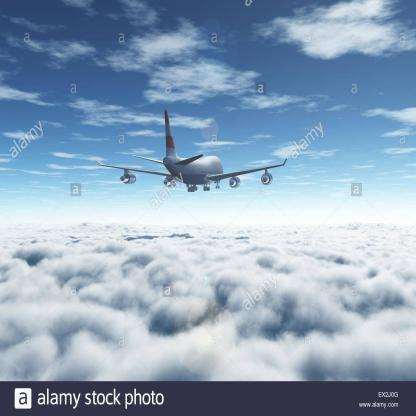CIV_Plane: (91, 104, 292, 206)
